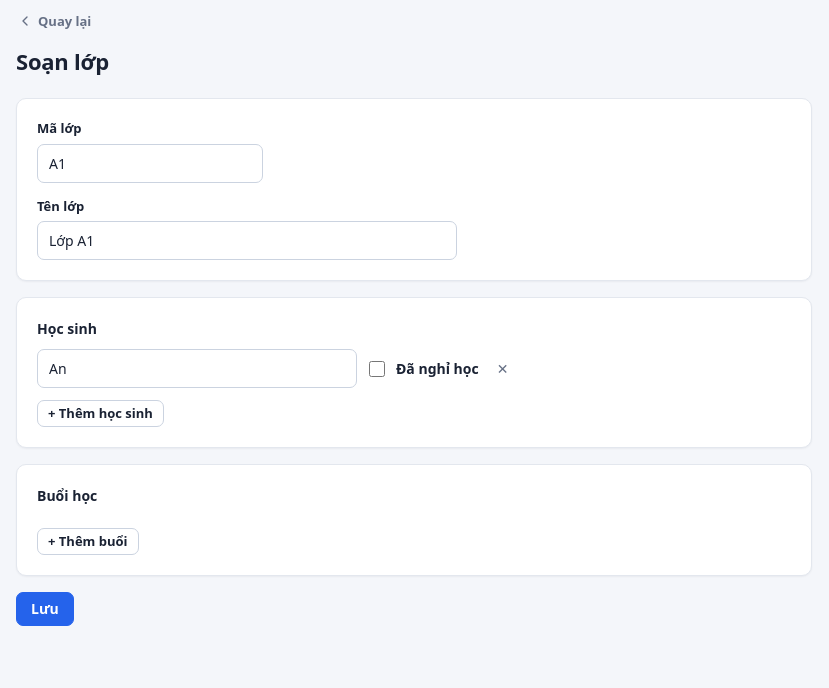
Test: ClassEditor › thêm học sinh tạo ô nhập mới
Click the button "+ Thêm học sinh" at coordinates (100, 414), box x1=37 y1=400 x2=164 y2=427
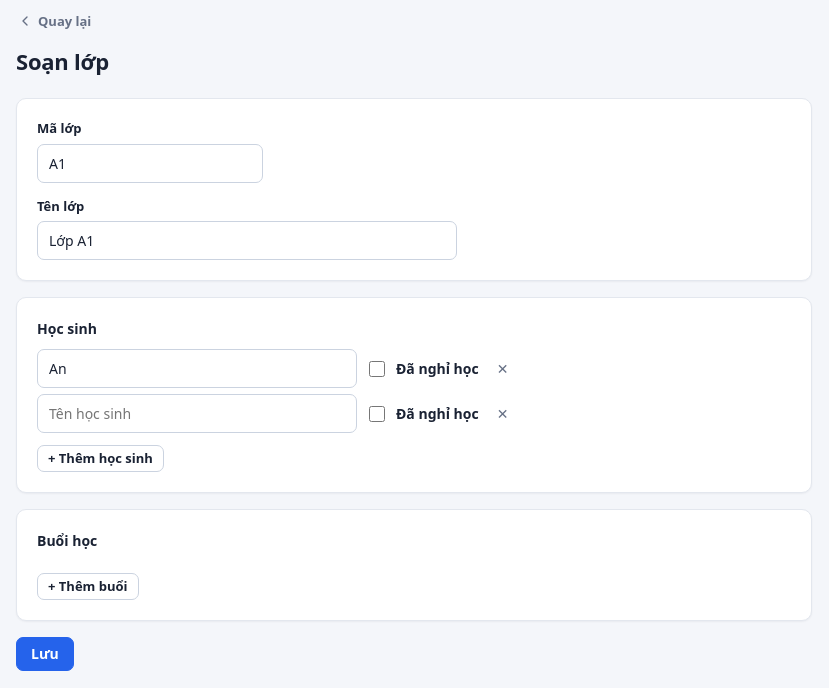
Expected: the number of fields with placeholder "Tên học sinh" is 2, x1=37 y1=349 x2=357 y2=388; x1=37 y1=394 x2=357 y2=433
